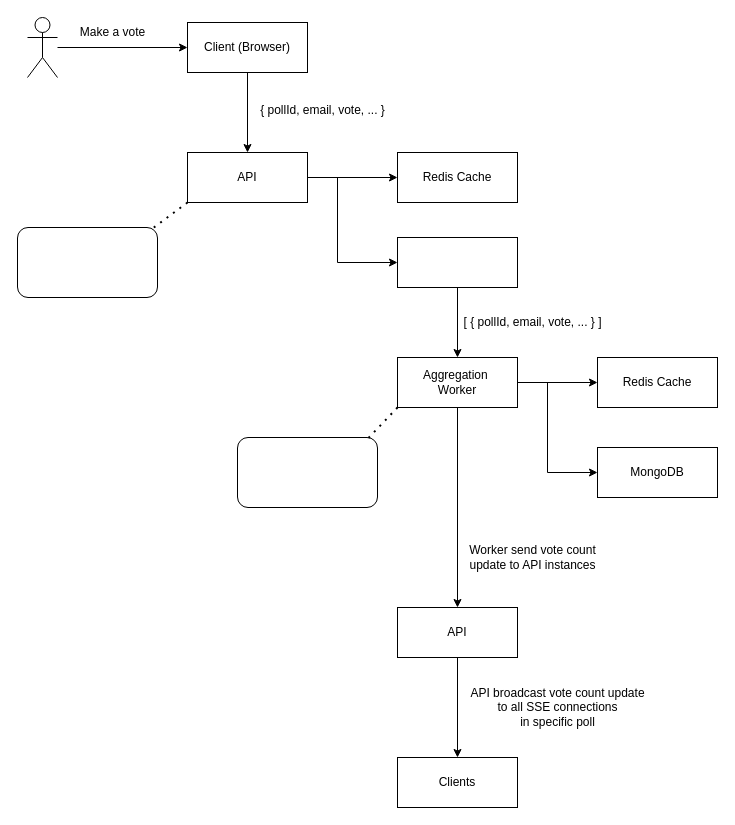
The diagram is 735 pixels wide and 825 high, and some of its shapes have lost their labels. Here are the shapes that lost their labels. From the top down, the centre of each, then its label:
At [42,47]: "Actor".
At [87,262]: "Votes are aggregated in a time window and sent in bulk".
At [457,262]: "Redis Stream".
At [307,472]: "Votes are aggregated in a time window and accounted in DB".
